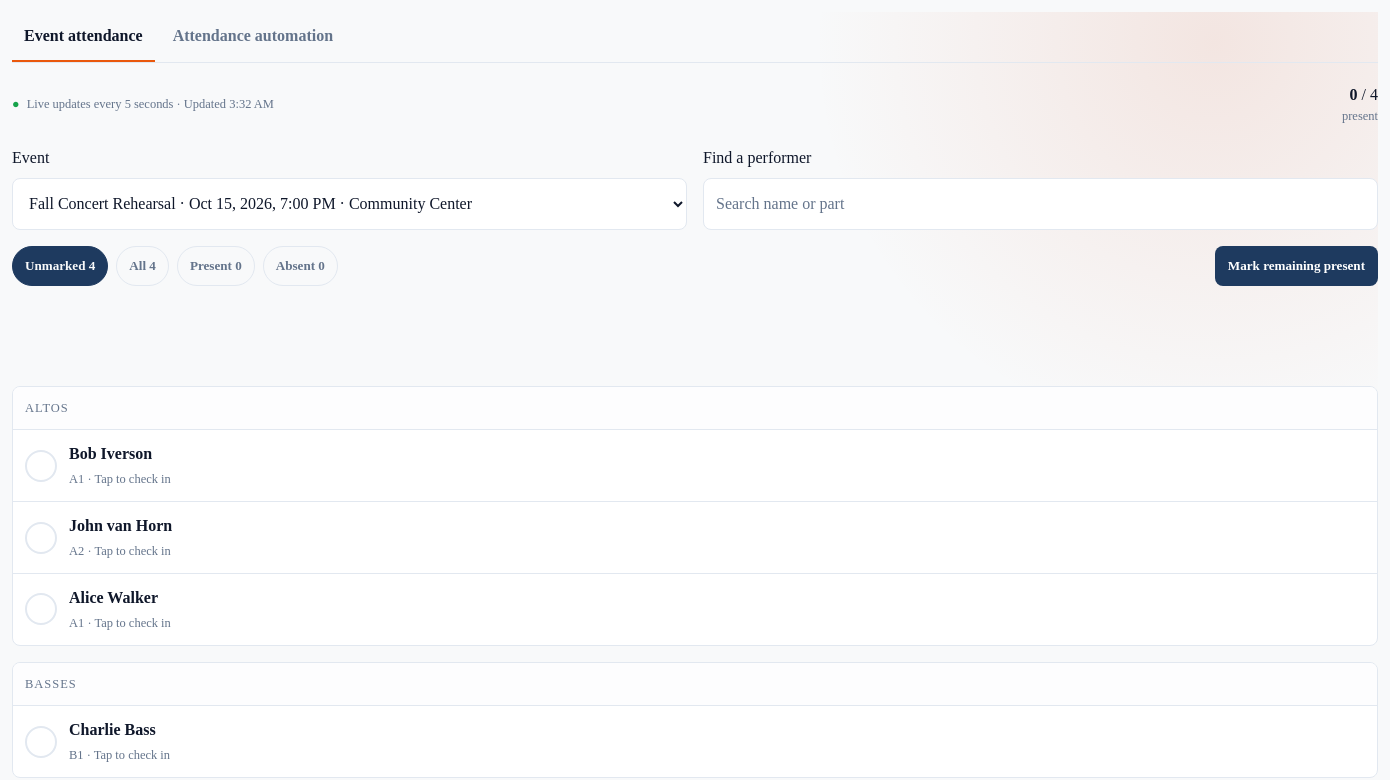
AttendanceManager section grouping and sorting UI › AttendanceManager Undo bar › walks back repeated edits to the same performer through actual prior states
Check: the heading "Altos" is shown, box [13, 387, 1377, 430]
Switch to All filter so performer remains visible when status changes
Click the button "All 4": (143, 266) [116, 246, 169, 286]
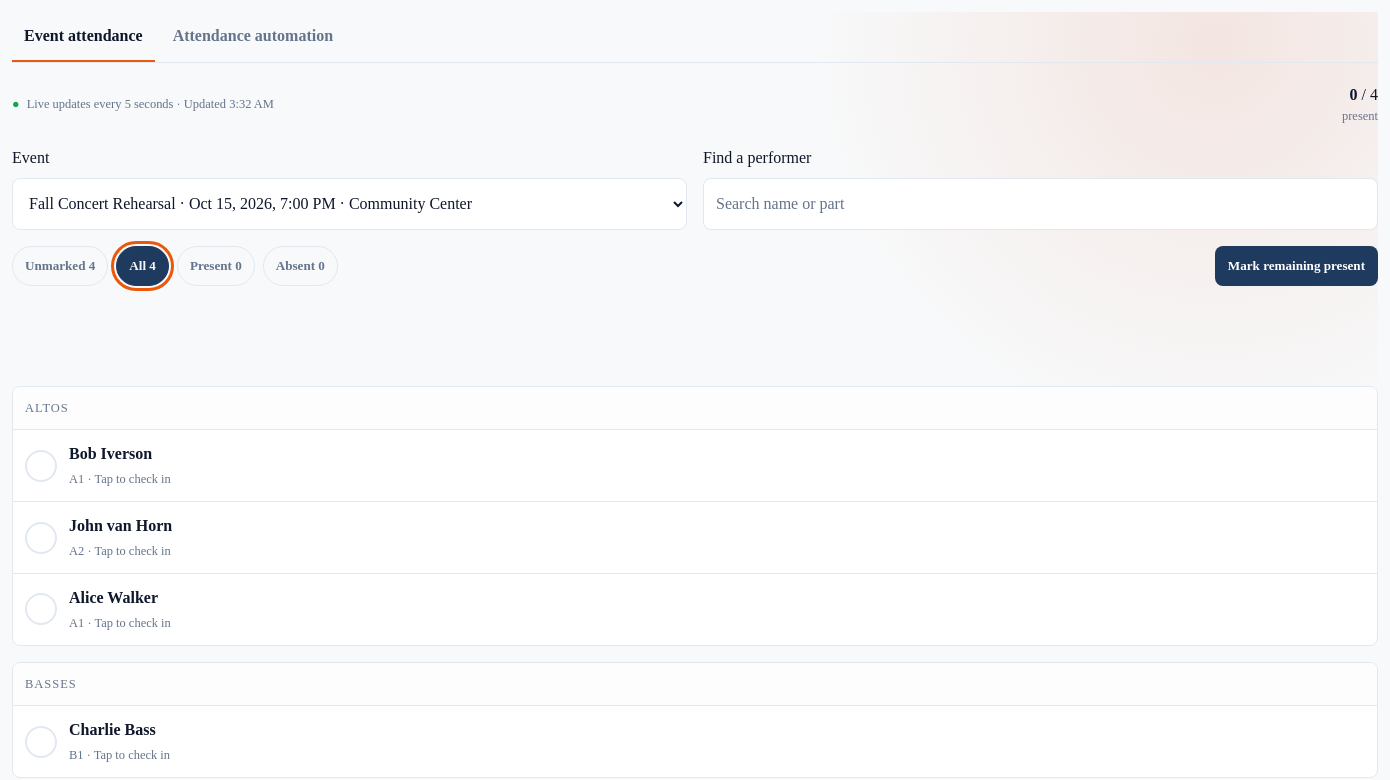
Click the button with aria-label "Alice Walker: Tap to check in. Tap to change.": (41, 609) [13, 574, 1377, 645]
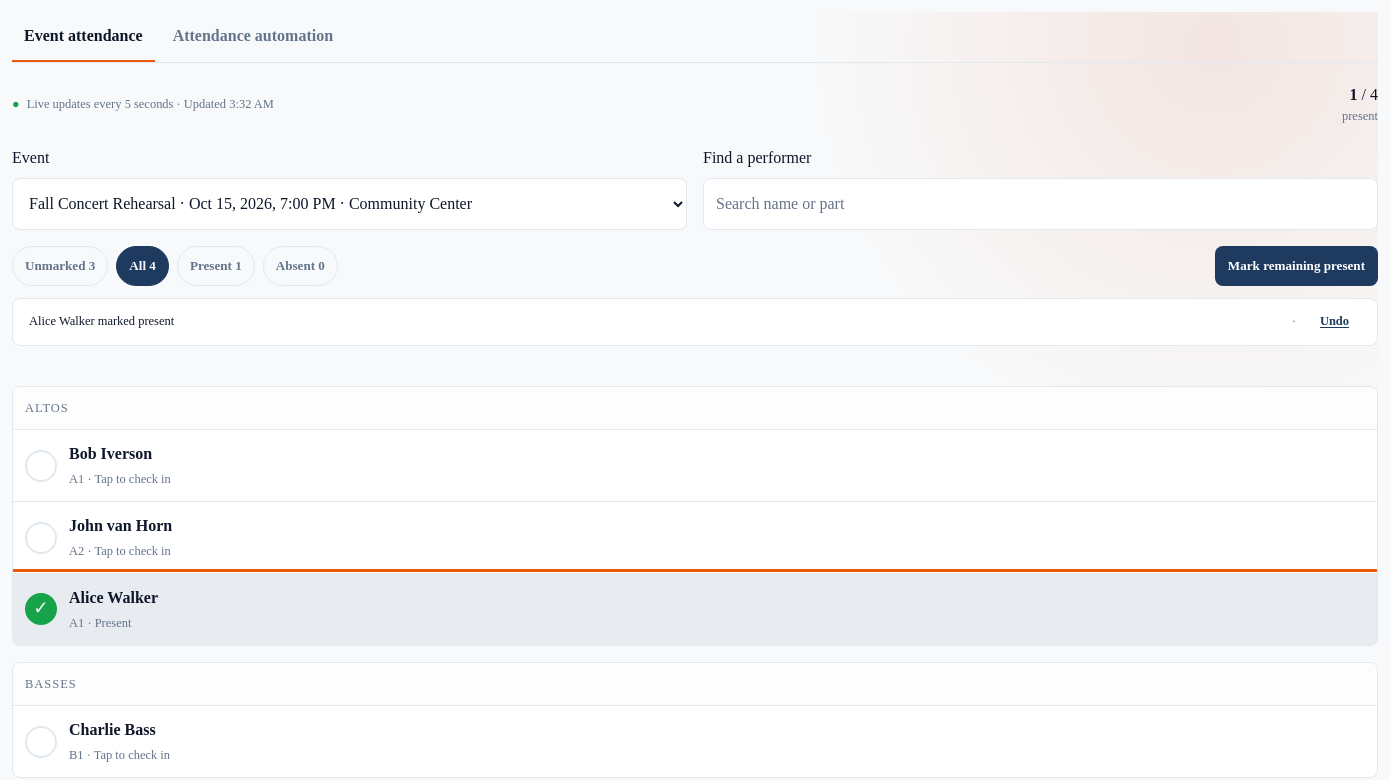
Check: the text "Alice Walker marked present" is shown, box [29, 314, 174, 328]
Click the button with aria-label "Alice Walker: Present. Tap to change.": (41, 609) [13, 574, 1377, 645]
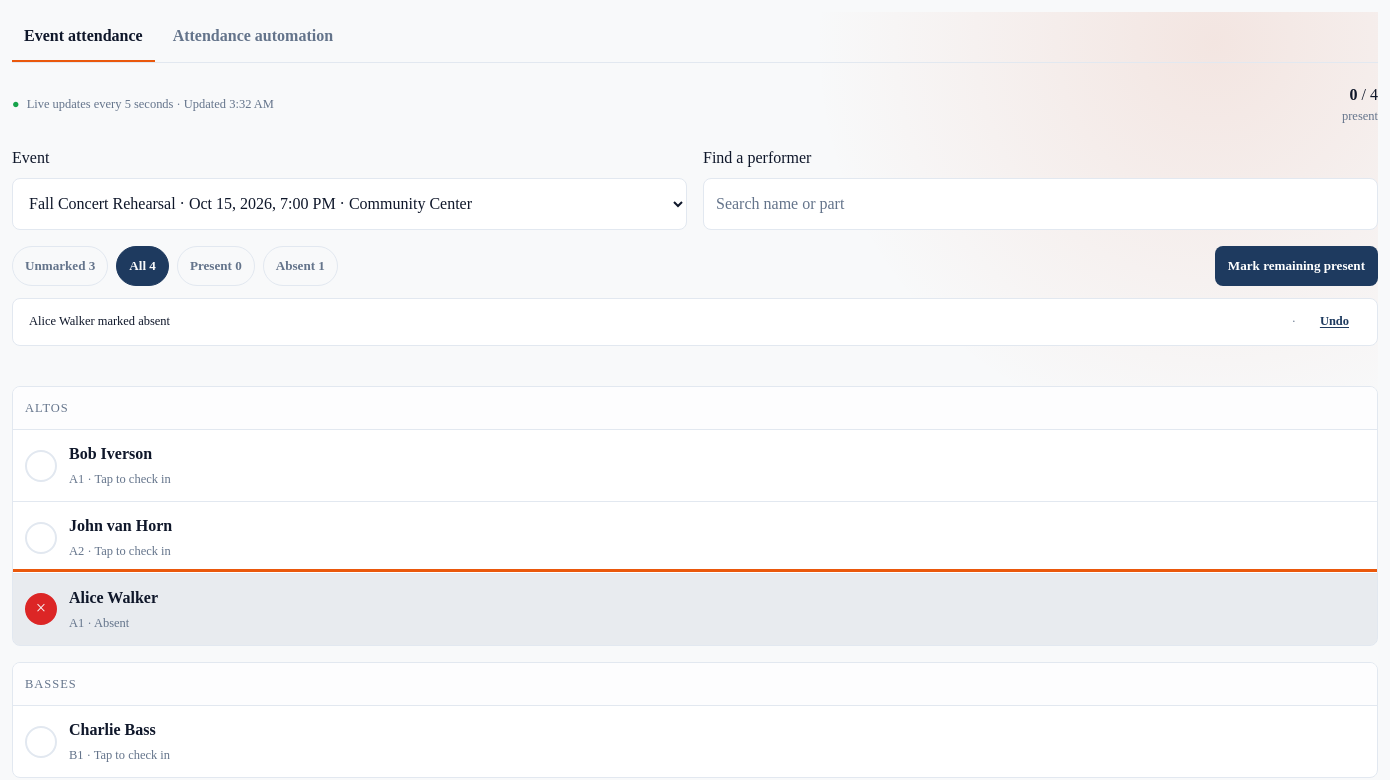
Check: the text "Alice Walker marked absent" is shown, box [29, 314, 170, 328]
Click the button with aria-label "Undo: Alice Walker marked absent": (1334, 322) [1308, 300, 1361, 344]
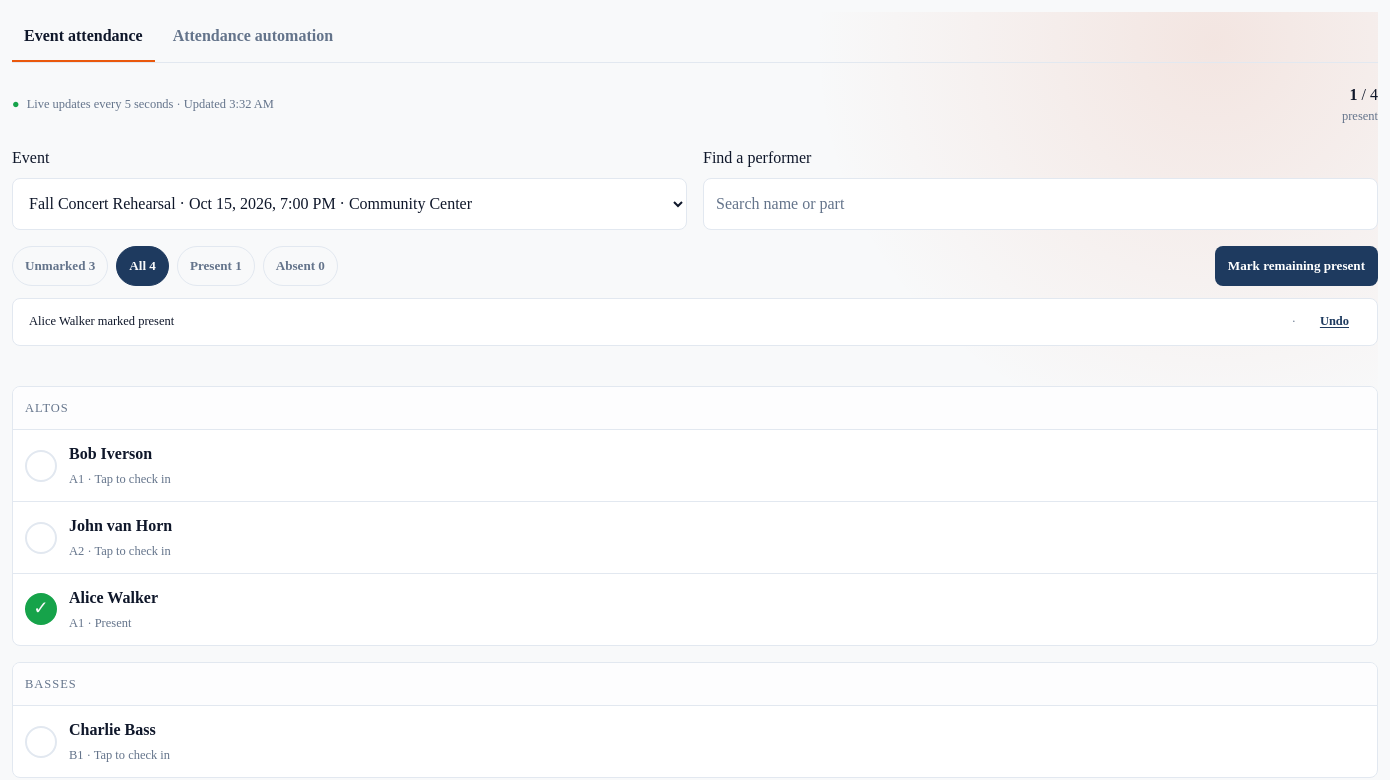
Check: the text "Alice Walker marked present" is shown, box [29, 314, 174, 328]
Click the button with aria-label "Undo: Alice Walker marked present": (1334, 322) [1308, 300, 1361, 344]
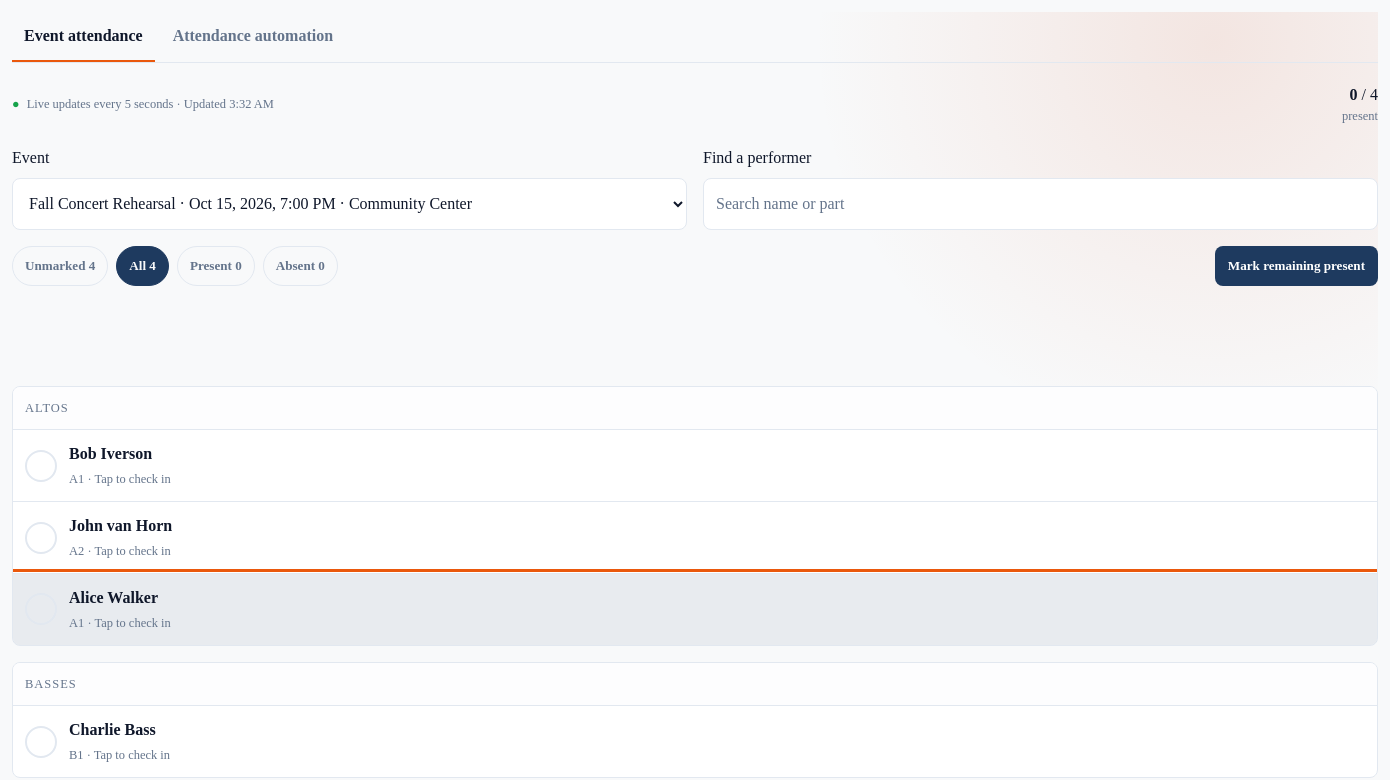
Check: the button "Undo" is gone
